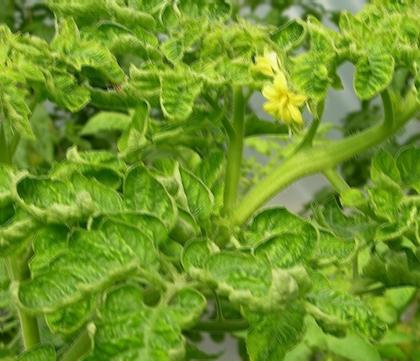Tomato leaf yellow virus: (13, 225, 151, 317), (246, 194, 361, 290), (69, 280, 201, 361), (178, 241, 276, 315), (94, 162, 184, 241), (160, 165, 223, 228), (48, 37, 130, 82), (344, 47, 398, 104), (153, 73, 211, 122), (396, 50, 420, 120)
